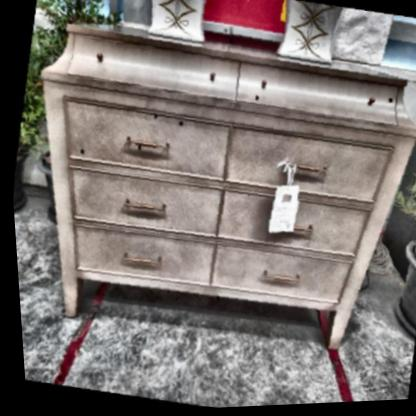Sideboard: (5, 6, 416, 371)
